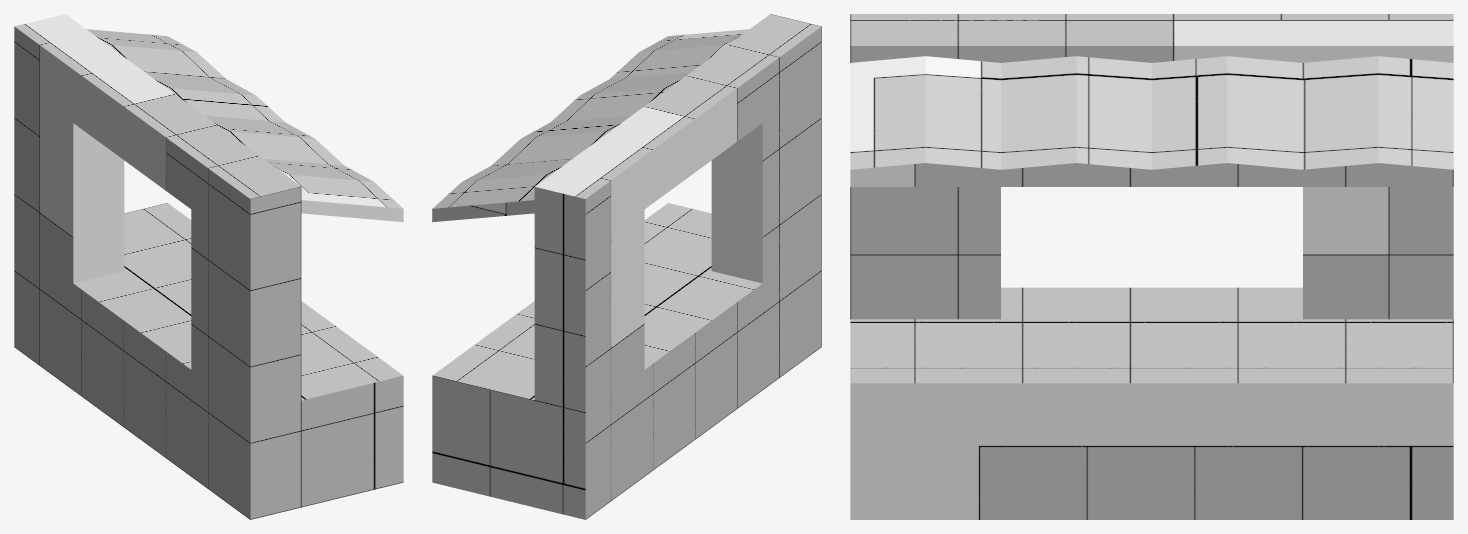
File: wall_with_loading_area.obj
3 views of the same model, side by side, from view 1: azimuth 30°, elevation 25°; view 2: azimuth 150°, elevation 25°; view 3: azimuth 270°, elevation 25° (orthographic). The views are drawn at different scales.
Visible parts, largest first — view 1: wall_loading_area_Cube.004; view 2: wall_loading_area_Cube.004; view 3: wall_loading_area_Cube.004.
Part boxes in pixels (x1,y1,x2,y2): wall_loading_area_Cube.004: (14, 14, 403, 519); wall_loading_area_Cube.004: (432, 14, 821, 519); wall_loading_area_Cube.004: (850, 14, 1453, 519).
Bounding box in the file's own units: 6 × 12 × 16.
1 material, 1 textured.
